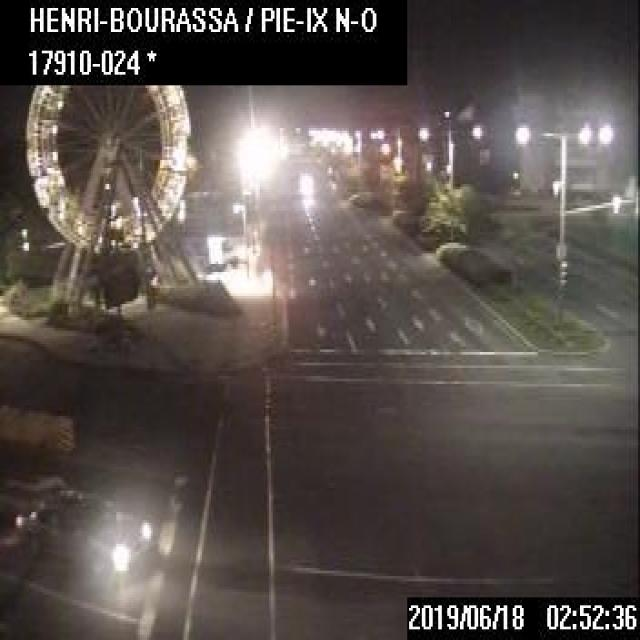vehicle: (24, 488, 152, 579)
